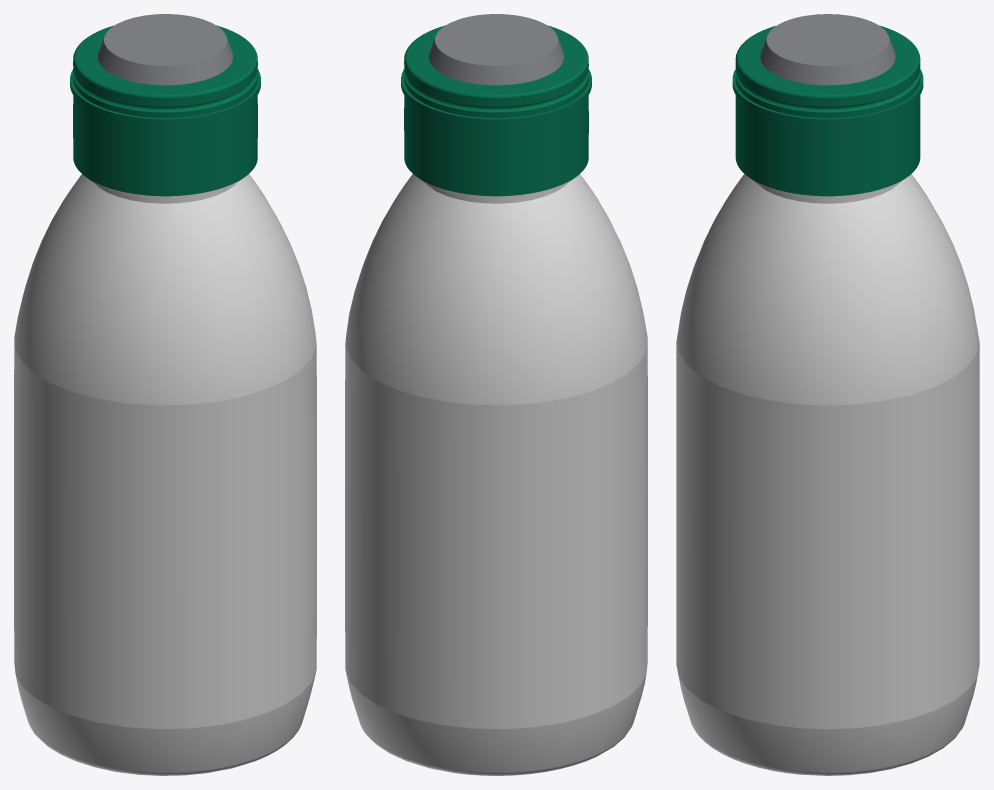
Rendered from BottleSmallSoyBroth.dae.
3 views of the same model, side by side, from view 1: azimuth 30°, elevation 25°; view 2: azimuth 150°, elevation 25°; view 3: azimuth 270°, elevation 25° (orthographic).
Parts seen in each view (by area): view 1: Body1; view 2: Body1; view 3: Body1.
Part boxes in pixels (left/top/right/bottom): Body1: left=14, top=14, right=316, bottom=775; Body1: left=345, top=14, right=647, bottom=775; Body1: left=676, top=14, right=979, bottom=775.
Size of the model in its own units: 0.0492 by 0.0492 by 0.122.
